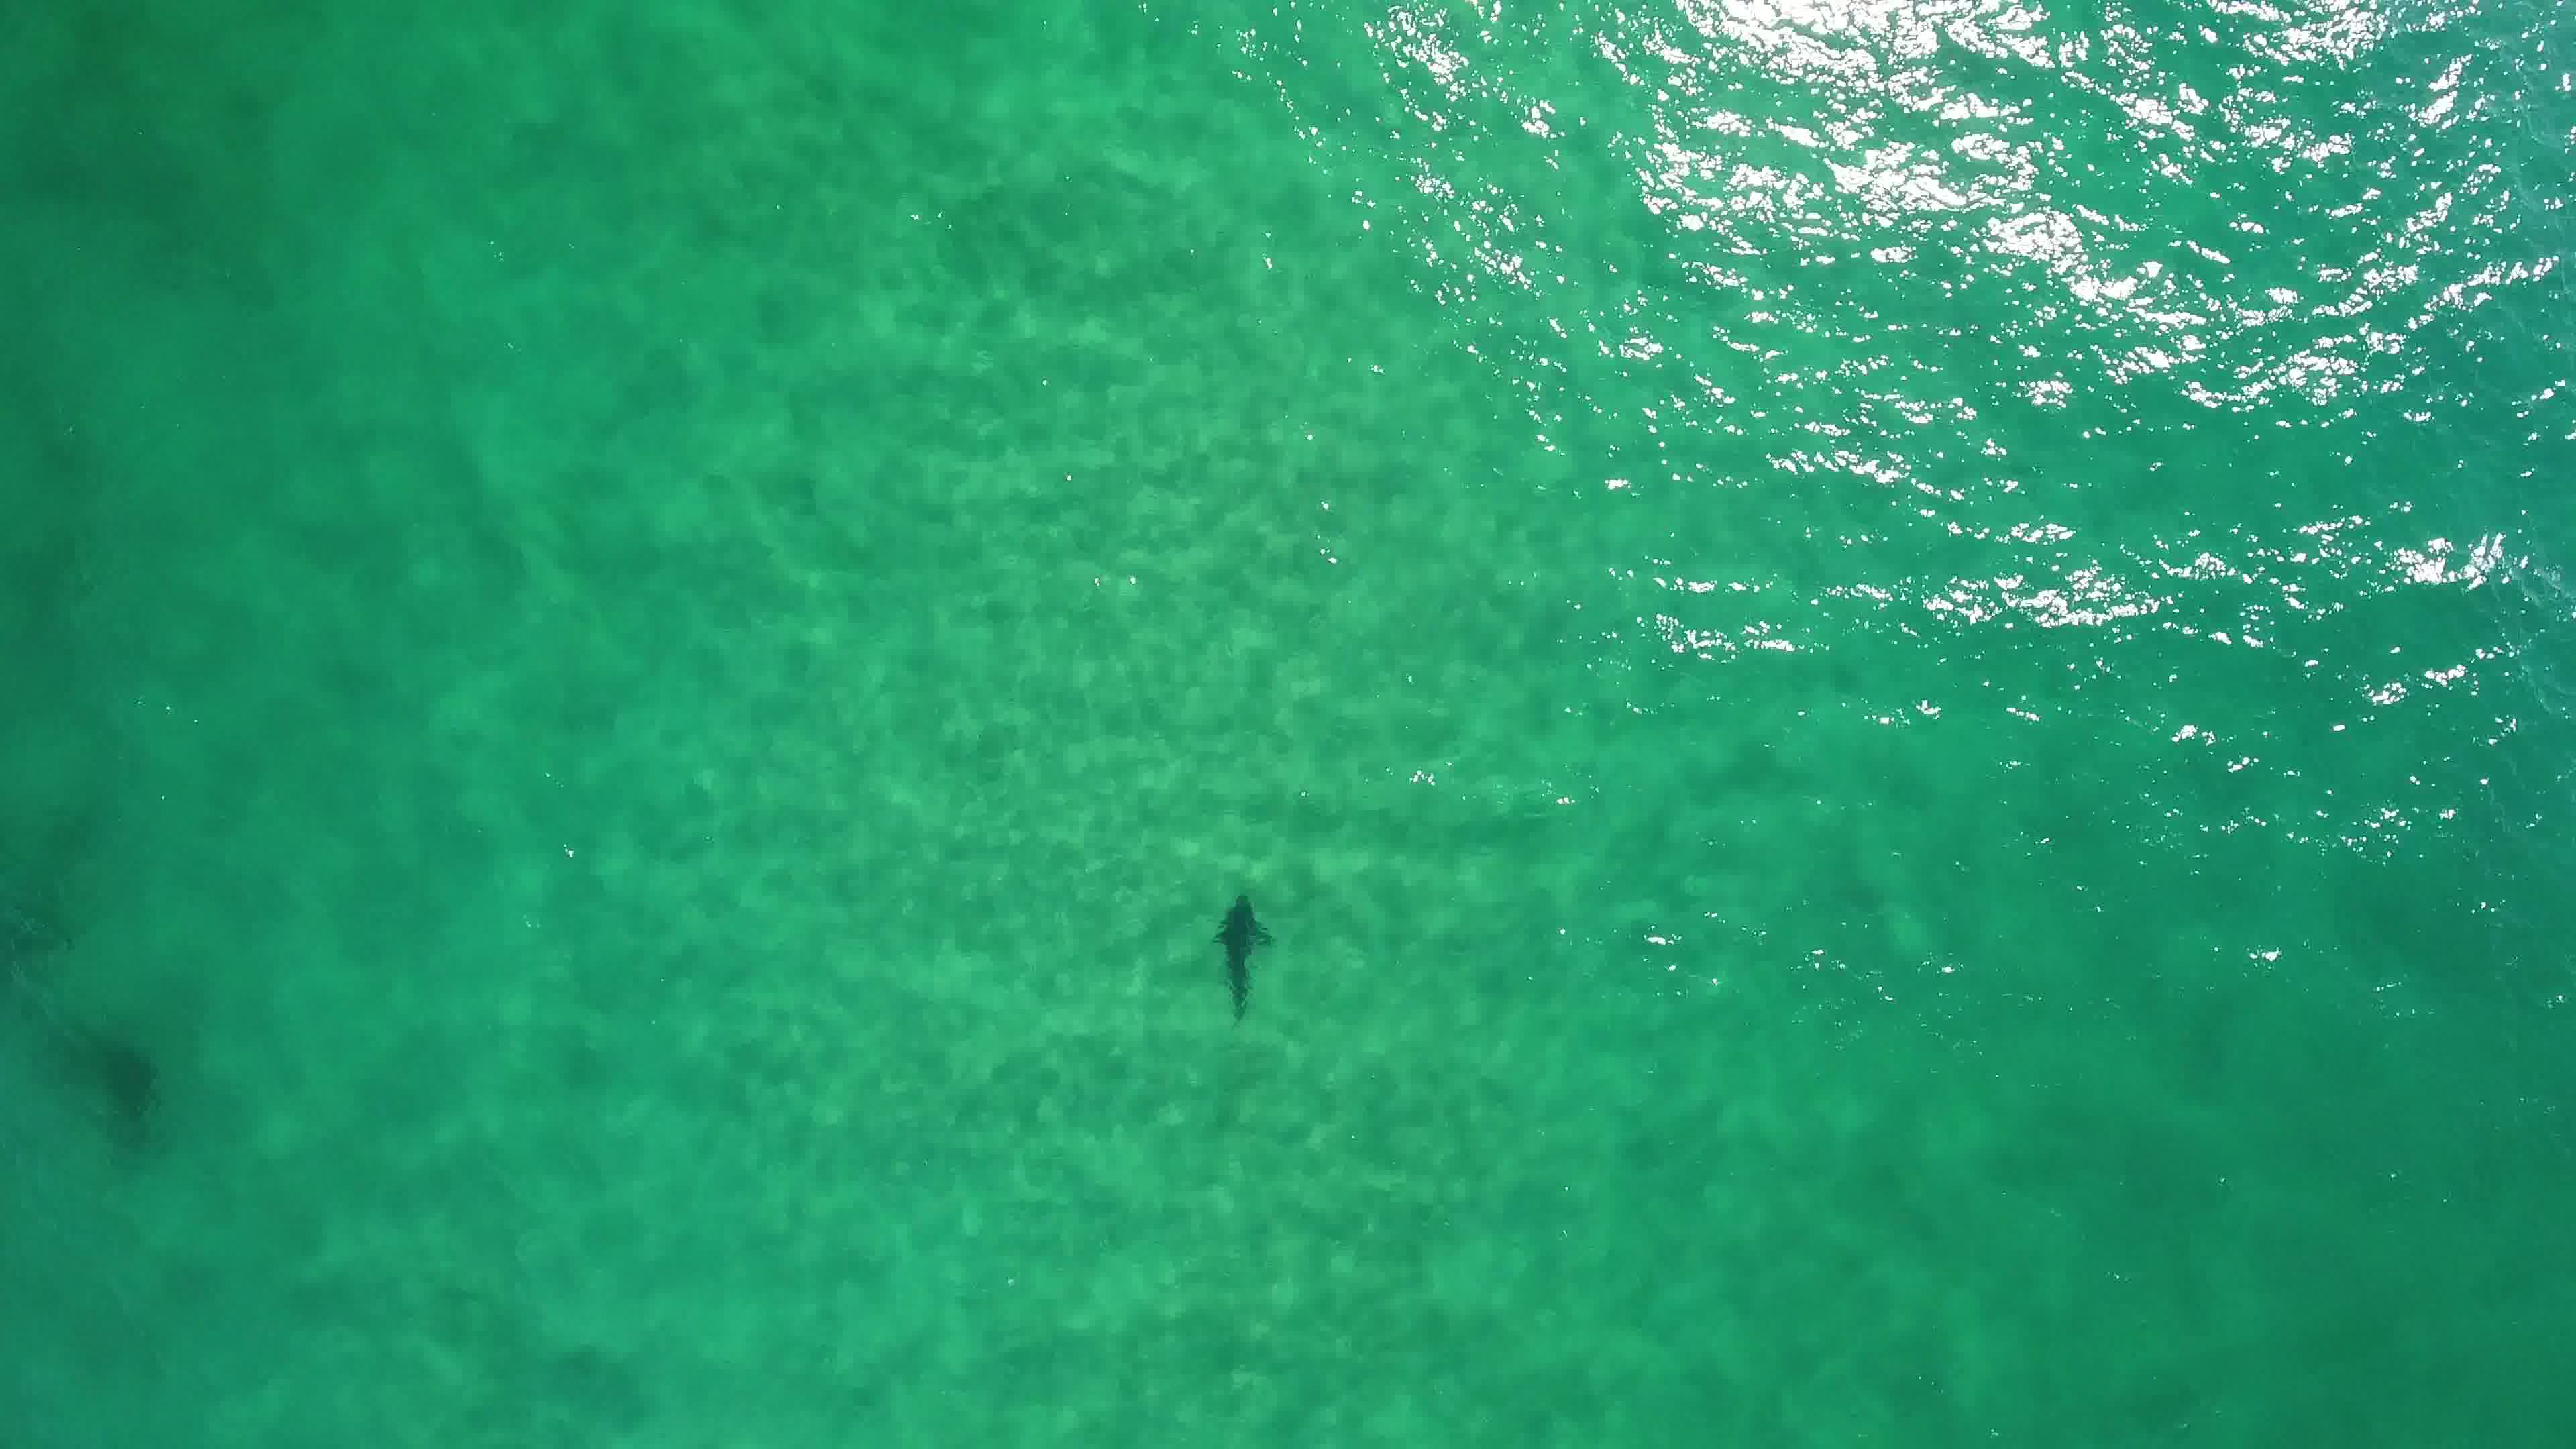shark: (1205, 890, 1281, 1030)
